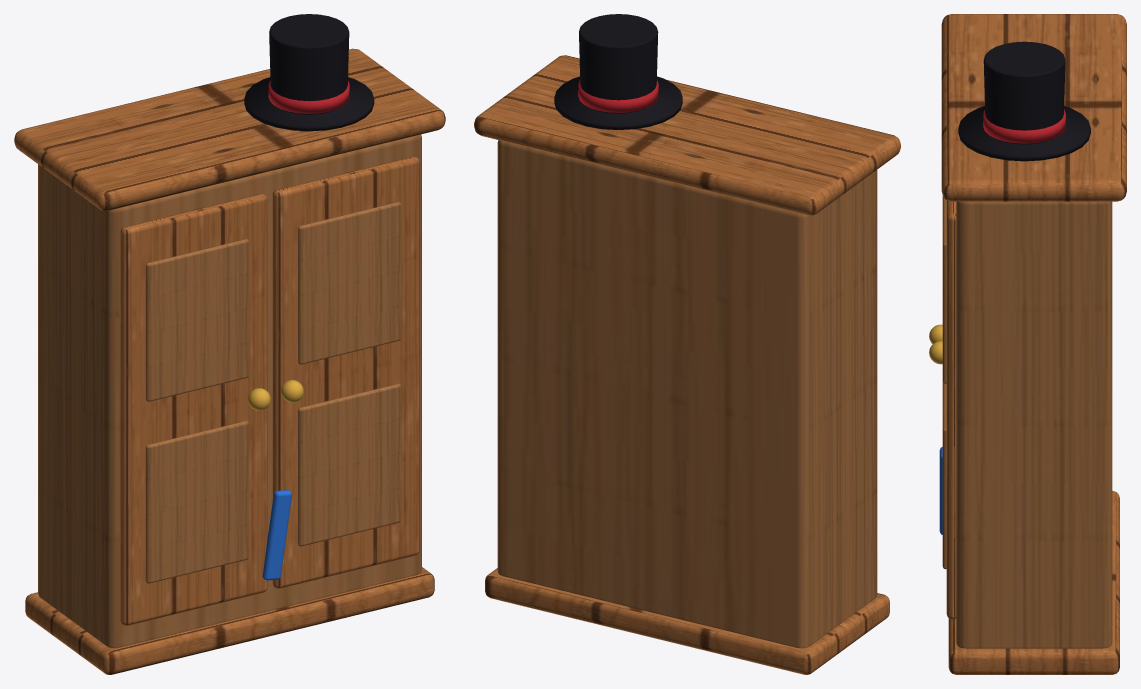
The model's file is closet.glb.
3 views of the same model, side by side, from view 1: azimuth 30°, elevation 25°; view 2: azimuth 150°, elevation 25°; view 3: azimuth 270°, elevation 25° (orthographic). The views are drawn at different scales.
Parts seen in each view (by area): view 1: closet_body, closet_door, closet_top, closet_door.001, closet_panel.002, closet_panel.003, closet_panel.001, closet_panel, closet_foot, hat_top, hat_brim, scarf_peek (+1 smaller); view 2: closet_body, closet_top, closet_foot, hat_top, hat_brim, hat_band; view 3: closet_body, closet_top, hat_top, closet_foot, closet_door.001, hat_brim, hat_band, closet_panel.003, closet_panel.002, scarf_peek.
Boxes of the visible parts, x1,y1,x2,y2 form: closet_body: (38,134,421,648); closet_door: (120,193,267,625); closet_top: (14,48,445,210); closet_door.001: (272,156,419,588); closet_panel.002: (298,202,401,364); closet_panel.003: (298,384,401,546); closet_panel.001: (145,421,248,583); closet_panel: (145,239,248,401); closet_foot: (25,567,434,674); hat_top: (269,14,349,114); hat_brim: (244,77,374,131); scarf_peek: (262,490,291,580); closet_body: (497,140,877,648); closet_top: (474,55,900,215); closet_foot: (485,568,889,674); hat_top: (579,14,658,113); hat_brim: (554,76,682,129); hat_band: (578,79,658,112); closet_body: (956,201,1112,648); closet_top: (941,14,1126,201); hat_top: (983,41,1065,144); closet_foot: (948,491,1119,674); closet_door.001: (946,200,956,619); hat_brim: (958,106,1090,161); hat_band: (983,109,1065,143); closet_panel.003: (942,382,946,569); closet_panel.002: (942,196,946,383); scarf_peek: (939,447,942,534).
Size of the model in its own units: 2.1 by 3.25 by 1.01.
6 materials, 2 textured.
